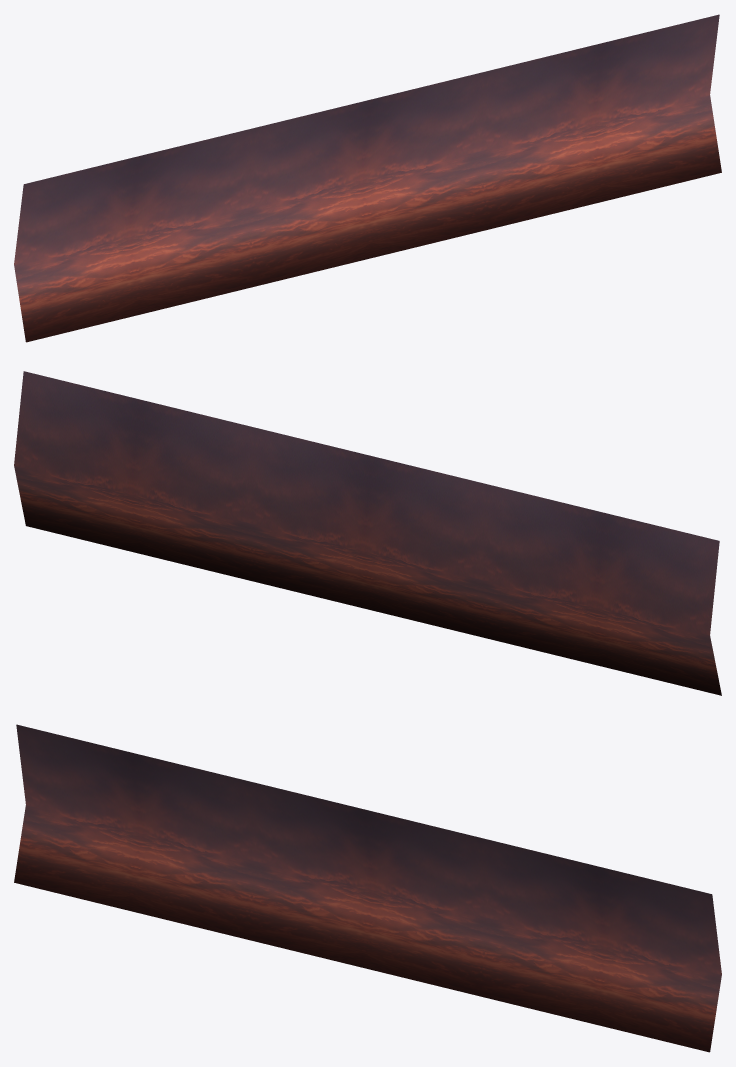
File: S0_Background.FBX
3 views of the same model, one above another, from view 1: azimuth 30°, elevation 25°; view 2: azimuth 150°, elevation 25°; view 3: azimuth 330°, elevation 25° (orthographic).
Visible parts, largest first — view 1: S0_Background; view 2: S0_Background; view 3: S0_Background.
Boxes of the visible parts, bbox=[...] form: S0_Background: bbox=[14, 14, 721, 342]; S0_Background: bbox=[14, 371, 721, 695]; S0_Background: bbox=[14, 724, 721, 1052].
Size of the model in its own units: 165406 by 4909 by 35560.
Materials: 1 (1 with a texture image).
